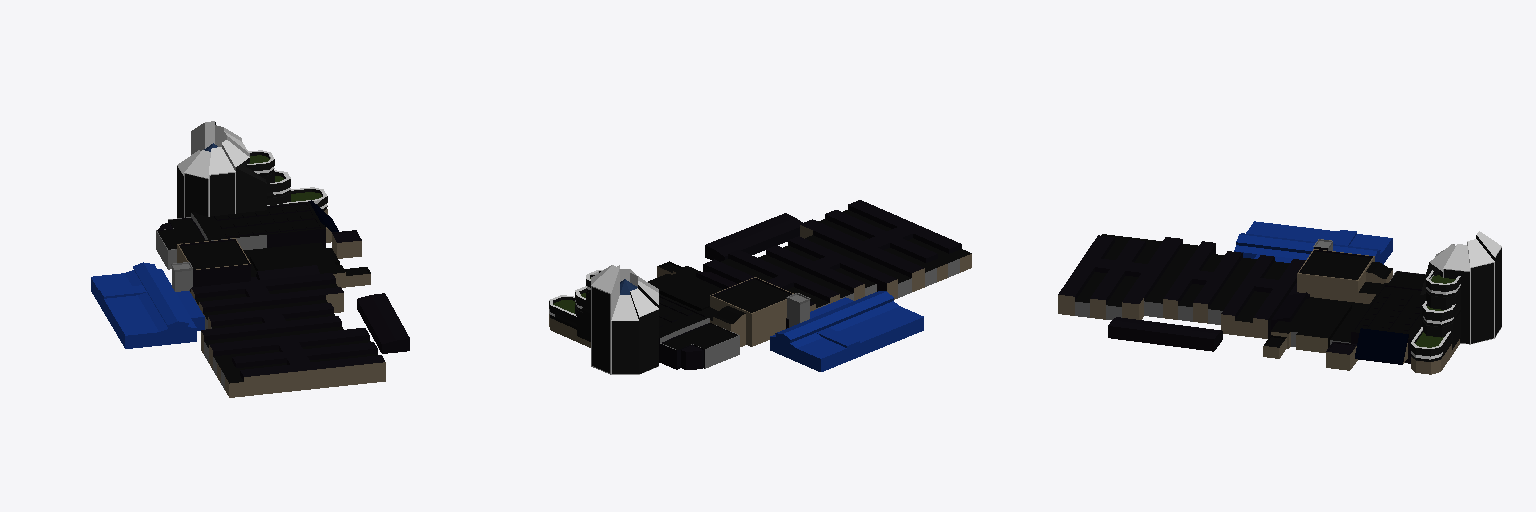
The model's file is studentcentre_model_published.obj.
3 views of the same model, side by side, from view 1: azimuth 30°, elevation 25°; view 2: azimuth 150°, elevation 25°; view 3: azimuth 270°, elevation 25° (orthographic).
Parts seen in each view (by area): view 1: SUBU_extra; view 2: SUBU_extra; view 3: SUBU_extra.
Boxes of the visible parts, <box> form: SUBU_extra: <box>91,121,409,397</box>; SUBU_extra: <box>549,200,971,374</box>; SUBU_extra: <box>1058,221,1501,374</box>.
Bounding box in the file's own units: 139 × 45.32 × 186.